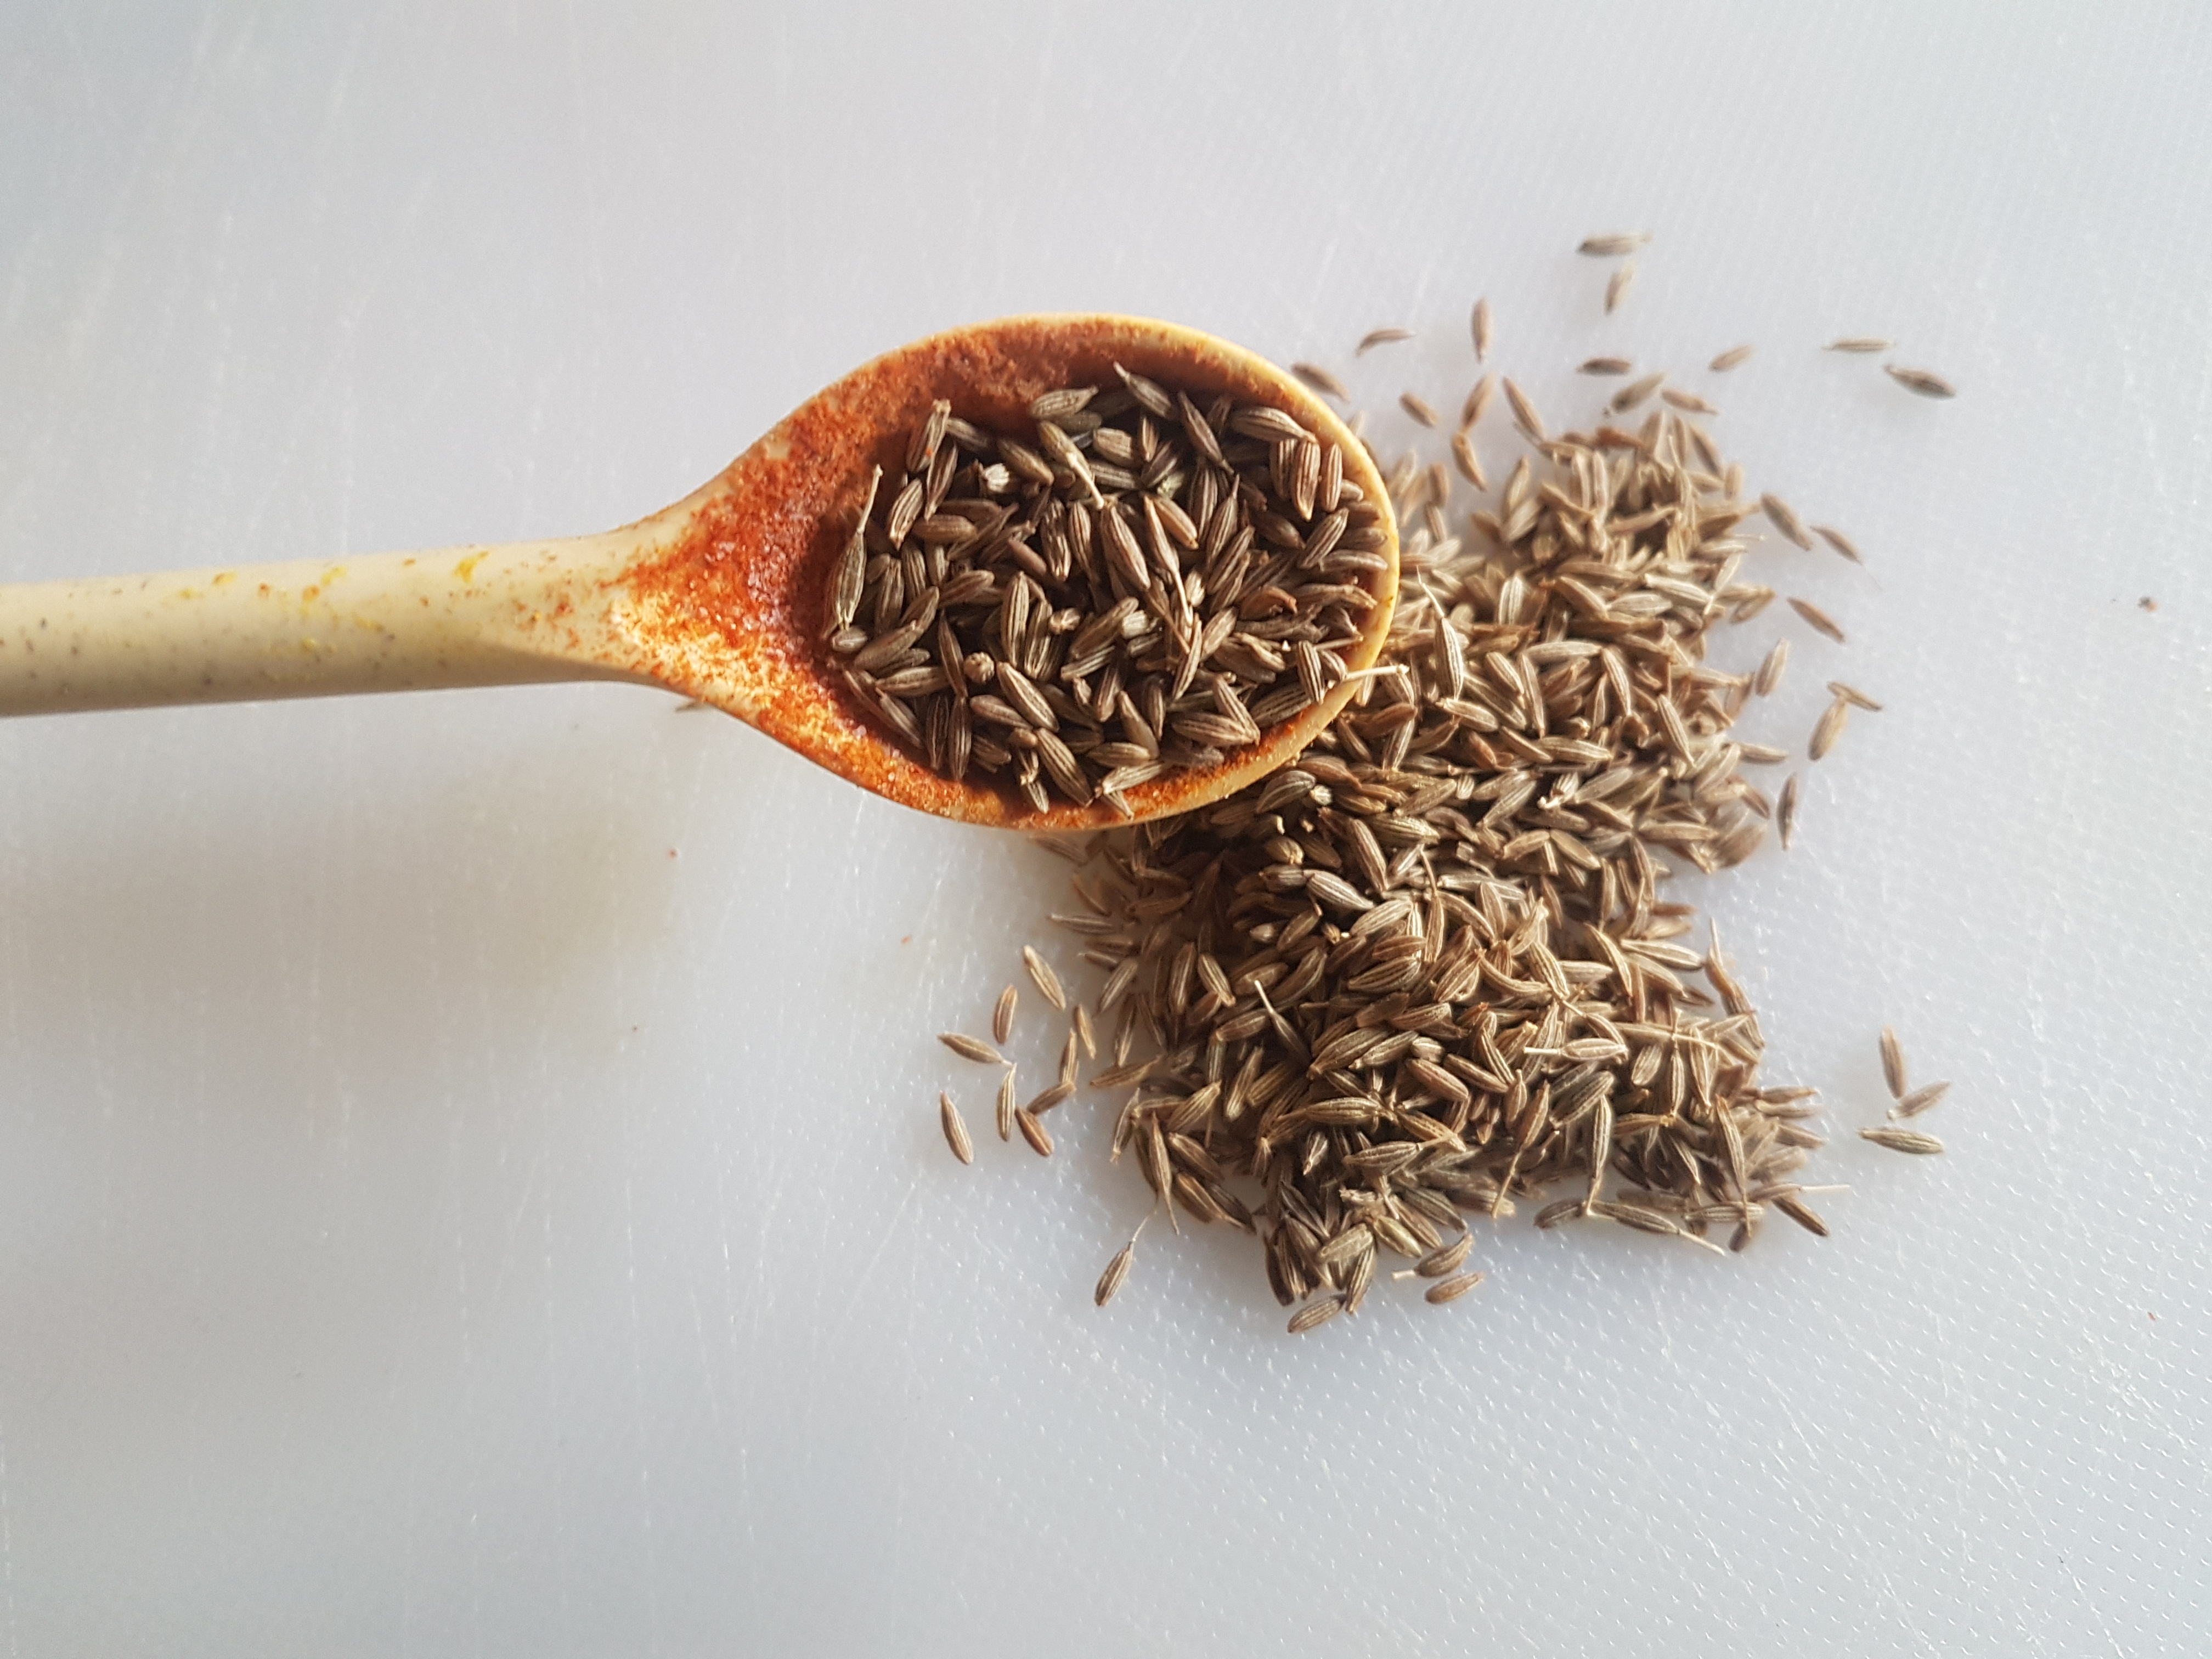Cumin (Zeera): (1024, 350, 1944, 1312), (794, 345, 1390, 779)
